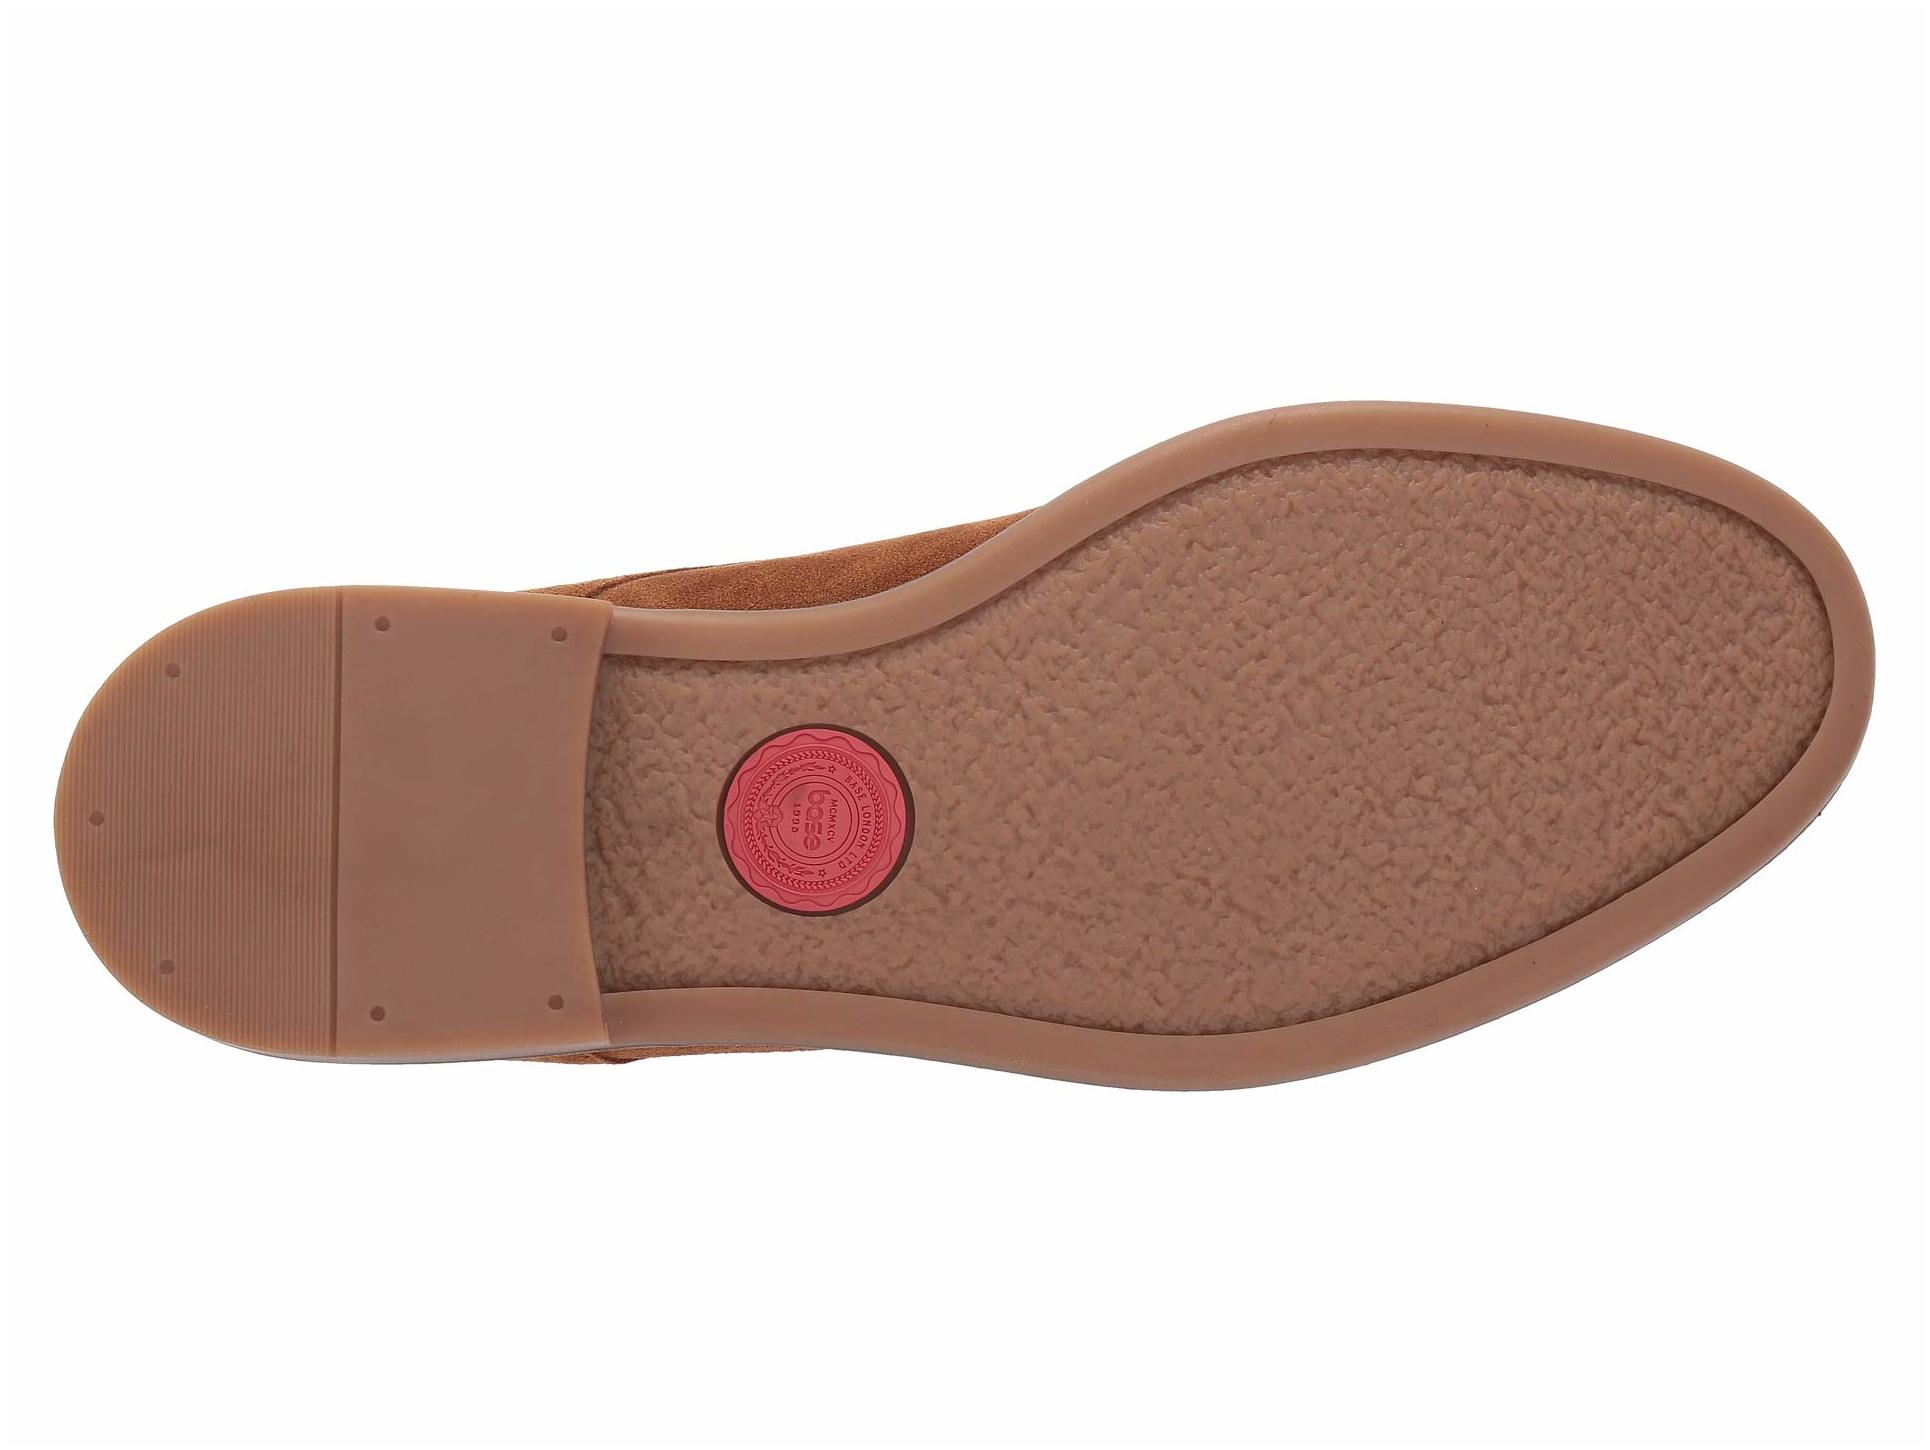circle: (641, 679, 979, 943)
other: (1217, 530, 1619, 885)
text: (641, 679, 979, 943)
